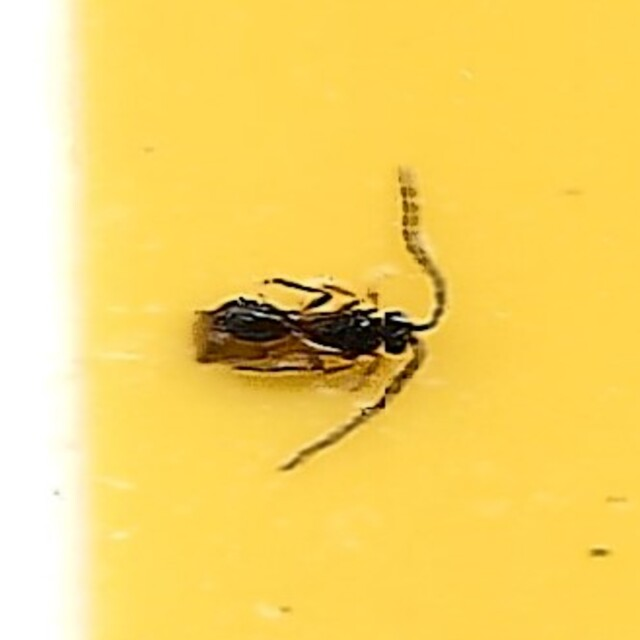Hymenoptera: (195, 170, 445, 470)
